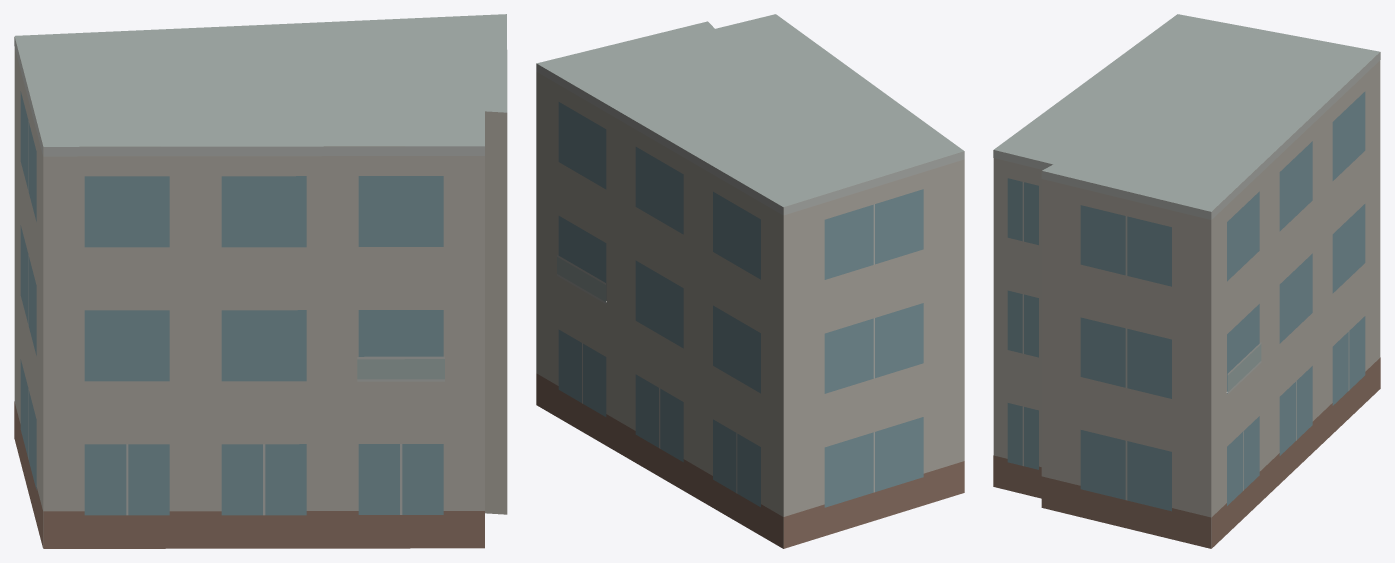
The model's file is survey-upis-32756277.glb.
3 views of the same model, side by side, from view 1: azimuth 30°, elevation 25°; view 2: azimuth 150°, elevation 25°; view 3: azimuth 270°, elevation 25° (orthographic). The views are drawn at different scales.
Visible parts, largest first — view 1: survey-upis-32756277.tmp; view 2: survey-upis-32756277.tmp; view 3: survey-upis-32756277.tmp.
Part boxes in pixels (left/top/right/bottom): survey-upis-32756277.tmp: left=14, top=14, right=507, bottom=548; survey-upis-32756277.tmp: left=536, top=14, right=964, bottom=548; survey-upis-32756277.tmp: left=993, top=14, right=1380, bottom=548.
Bounding box in the file's own units: 12.73 × 10.1 × 10.52.
